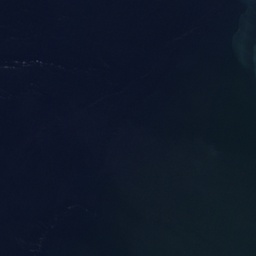Marine Debris: (0, 59, 83, 73)
